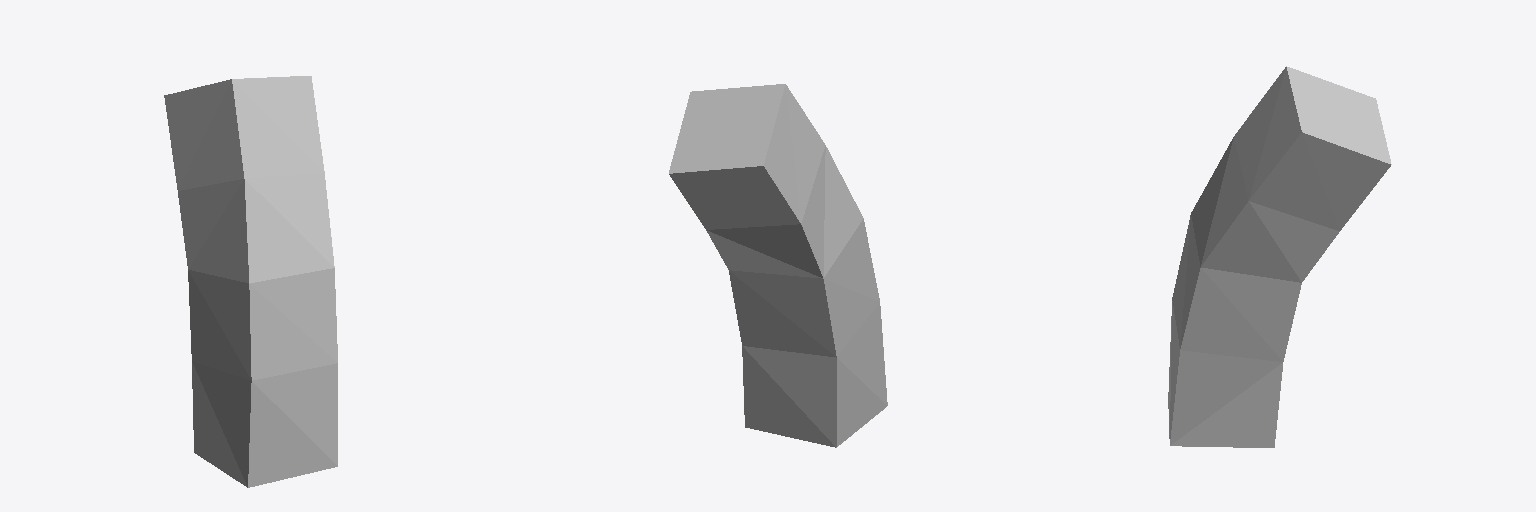
Rendered from wiggle_000018.obj.
3 renders of one model, left to right at view 1: azimuth 30°, elevation 25°; view 2: azimuth 150°, elevation 25°; view 3: azimuth 270°, elevation 25°, orthographic.
Visible parts, largest first — view 1: Cube; view 2: Cube; view 3: Cube.
Part boxes in pixels (x1,y1,x2,y2): Cube: (164, 76, 337, 487); Cube: (669, 84, 887, 447); Cube: (1168, 66, 1391, 447).
Bounding box in the file's own units: 2.92 × 7.53 × 4.25.